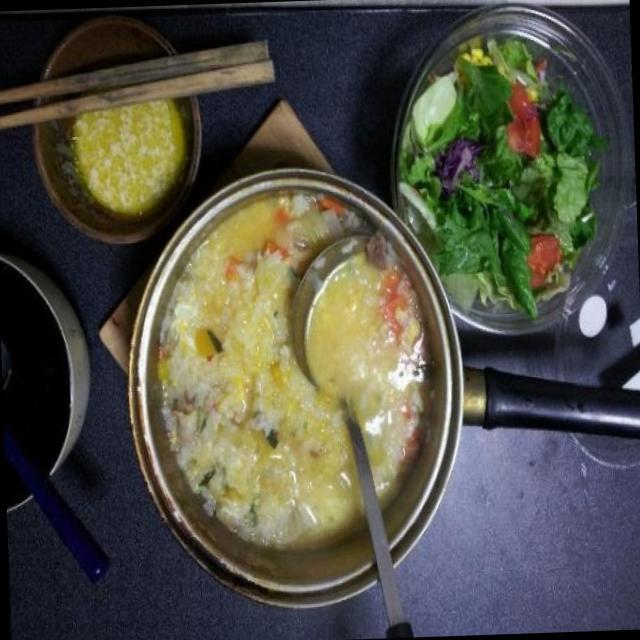Green Salad: (407, 54, 600, 310)
